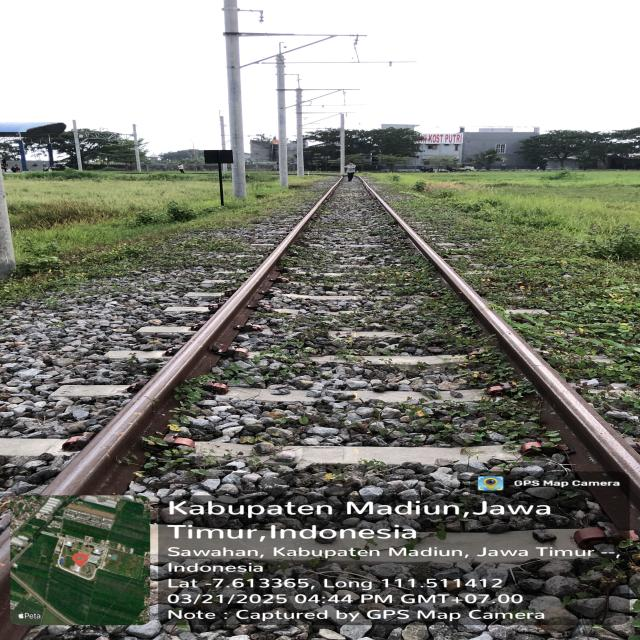rail-detection: (363, 183, 640, 530), (45, 191, 331, 495)
